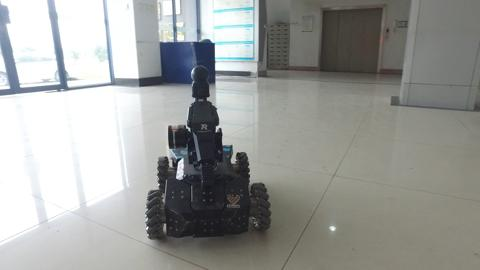chariot: (134, 62, 281, 243)
